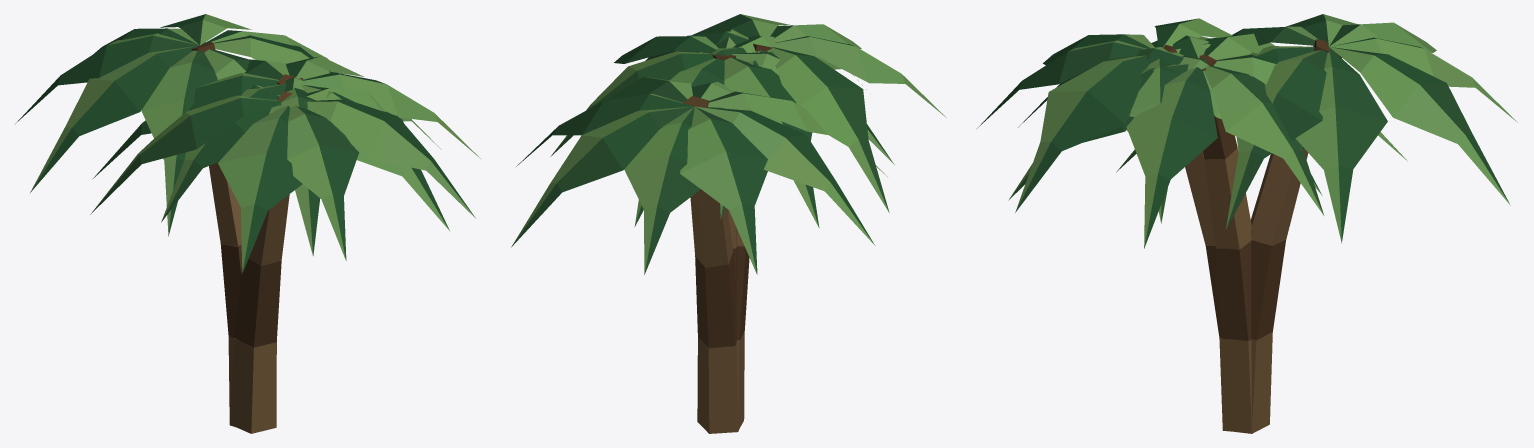
Rendered from palm.glb.
3 views of the same model, side by side, from view 1: azimuth 30°, elevation 25°; view 2: azimuth 150°, elevation 25°; view 3: azimuth 270°, elevation 25° (orthographic). The views are drawn at different scales.
Parts seen in each view (by area): view 1: palm-c, palm-a, palm-b; view 2: palm-a, palm-c, palm-b; view 3: palm-a, palm-b, palm-c.
Part boxes in pixels (bbox=[...]): palm-c: bbox=[90, 77, 475, 433]; palm-a: bbox=[15, 14, 342, 426]; palm-b: bbox=[93, 56, 480, 429]; palm-a: bbox=[511, 77, 887, 433]; palm-c: bbox=[645, 14, 946, 430]; palm-b: bbox=[550, 29, 894, 415]; palm-a: bbox=[1116, 14, 1517, 433]; palm-b: bbox=[1008, 33, 1407, 433]; palm-c: bbox=[977, 18, 1322, 433].
Bounding box in the file's own units: 1.52 × 1.41 × 1.83.
